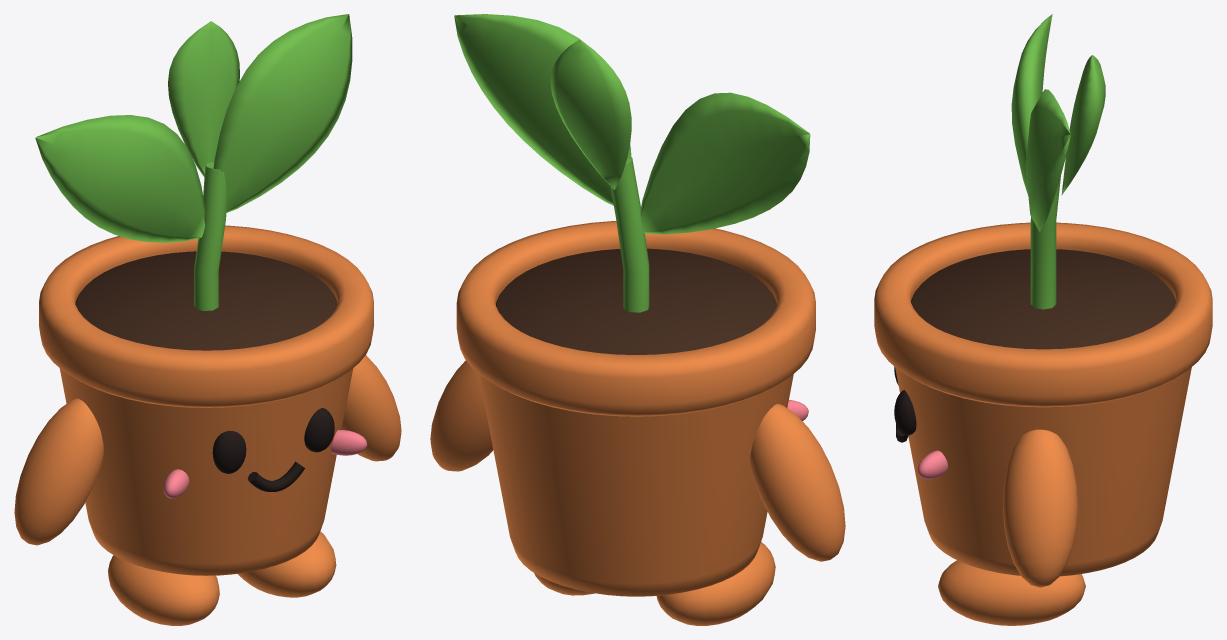
The model's file is sprout.glb.
3 views of the same model, side by side, from view 1: azimuth 30°, elevation 25°; view 2: azimuth 150°, elevation 25°; view 3: azimuth 270°, elevation 25° (orthographic). The views are drawn at different scales.
Visible parts, largest first — view 1: Pot, Rounded pot rim, Soil, Right leaf, Left leaf, Left arm, Crown leaf, Left foot, Right arm, Stem, Right foot, Left eye (+4 smaller); view 2: Pot, Rounded pot rim, Soil, Left leaf, Right leaf, Left arm, Crown leaf, Right arm, Left foot, Stem; view 3: Pot, Rounded pot rim, Soil, Right arm, Right foot, Right leaf, Left leaf, Crown leaf, Stem, Right eye, Right blush.
Part boxes in pixels (bbox=[...]): Pot: bbox=[59, 368, 353, 575]; Rounded pot rim: bbox=[39, 225, 373, 407]; Soil: bbox=[75, 251, 337, 350]; Right leaf: bbox=[213, 14, 352, 212]; Left leaf: bbox=[35, 115, 205, 242]; Left arm: bbox=[14, 398, 103, 545]; Crown leaf: bbox=[168, 21, 239, 176]; Left foot: bbox=[108, 555, 219, 625]; Right arm: bbox=[341, 355, 401, 461]; Stem: bbox=[194, 162, 227, 310]; Right foot: bbox=[237, 531, 336, 597]; Left eye: bbox=[212, 431, 246, 473]; Pot: bbox=[479, 374, 793, 596]; Rounded pot rim: bbox=[456, 221, 815, 416]; Soil: bbox=[496, 248, 776, 354]; Left leaf: bbox=[640, 92, 810, 234]; Right leaf: bbox=[454, 14, 631, 205]; Left arm: bbox=[750, 404, 845, 561]; Crown leaf: bbox=[550, 39, 631, 189]; Right arm: bbox=[430, 360, 493, 471]; Left foot: bbox=[656, 542, 775, 625]; Stem: bbox=[610, 157, 649, 312]; Pot: bbox=[895, 367, 1191, 576]; Rounded pot rim: bbox=[874, 222, 1212, 407]; Soil: bbox=[911, 249, 1175, 349]; Right arm: bbox=[1003, 429, 1077, 587]; Right foot: bbox=[938, 560, 1085, 625]; Right leaf: bbox=[1025, 89, 1070, 231]; Left leaf: bbox=[1011, 14, 1052, 195]; Crown leaf: bbox=[1061, 55, 1105, 195]; Stem: bbox=[1030, 176, 1060, 309]; Right eye: bbox=[894, 390, 916, 435]; Right blush: bbox=[917, 450, 947, 479].
Bounding box in the file's own units: 0.7294 × 1 × 0.558.
